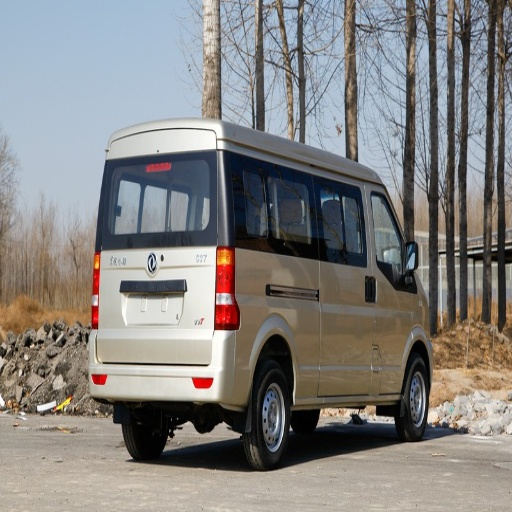back_bumper: (89, 329, 240, 401)
tailgate: (101, 234, 215, 327)
trunk: (227, 256, 351, 403), (98, 246, 219, 363)
